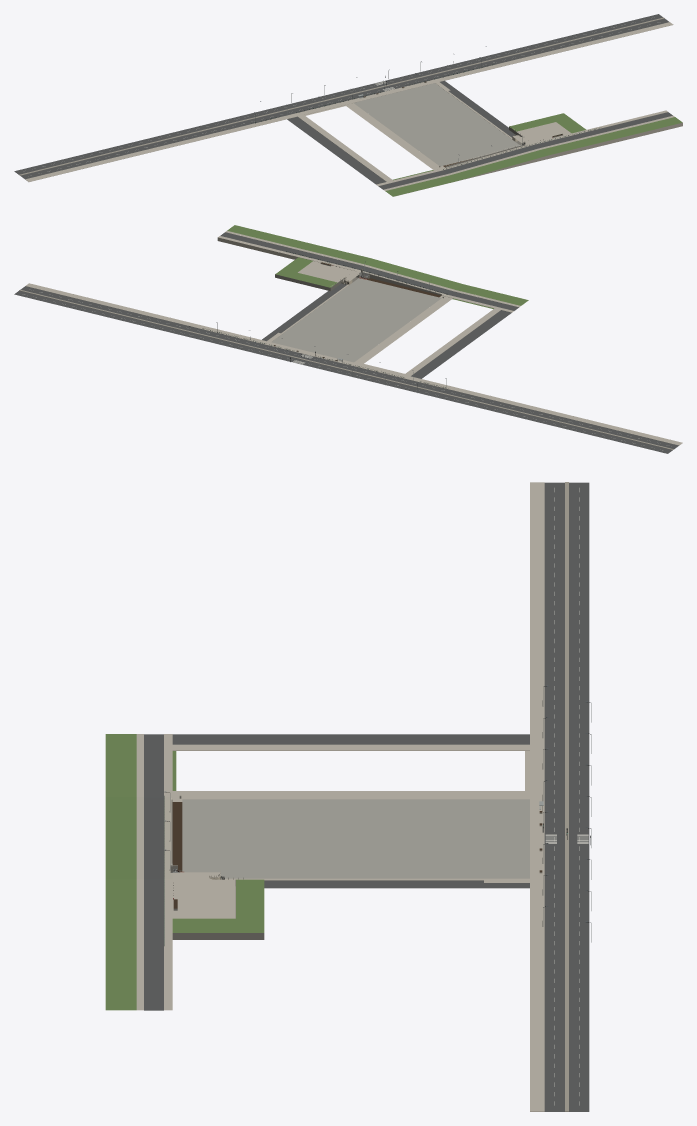
The model's file is SM_Ground_Streets.glb.
The picture shows the model from 3 angles, top to bottom: view 1: azimuth 30°, elevation 25°; view 2: azimuth 150°, elevation 25°; view 3: azimuth 270°, elevation 25°; orthographic projection. The views are drawn at different scales.
Parts seen in each view (by area): view 1: SM_Ground_Streets_LM; view 2: SM_Ground_Streets_LM; view 3: SM_Ground_Streets_LM.
Part boxes in pixels (x1=…): SM_Ground_Streets_LM: x1=14, y1=14, x2=682, y2=196; SM_Ground_Streets_LM: x1=14, y1=225, x2=682, y2=453; SM_Ground_Streets_LM: x1=105, y1=482, x2=591, y2=1111.
Bounding box in the file's own units: 600 × 12.01 × 196.
